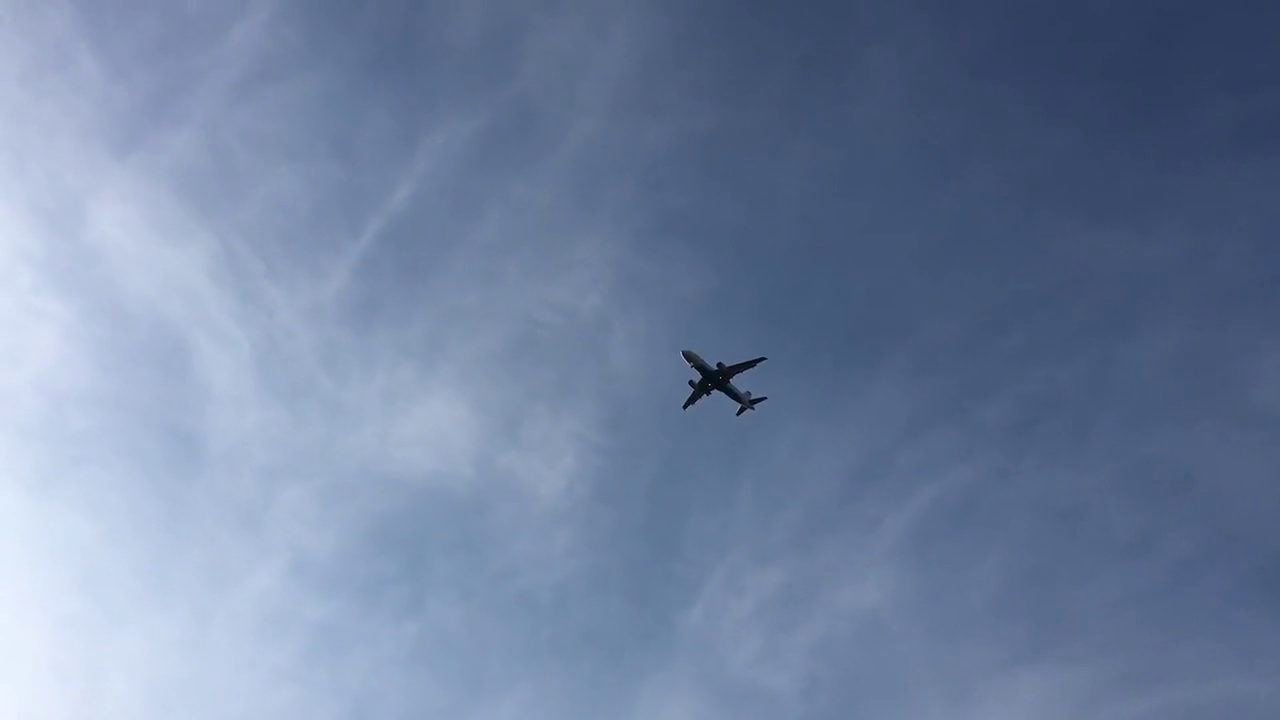plane: (676, 346, 769, 418)
